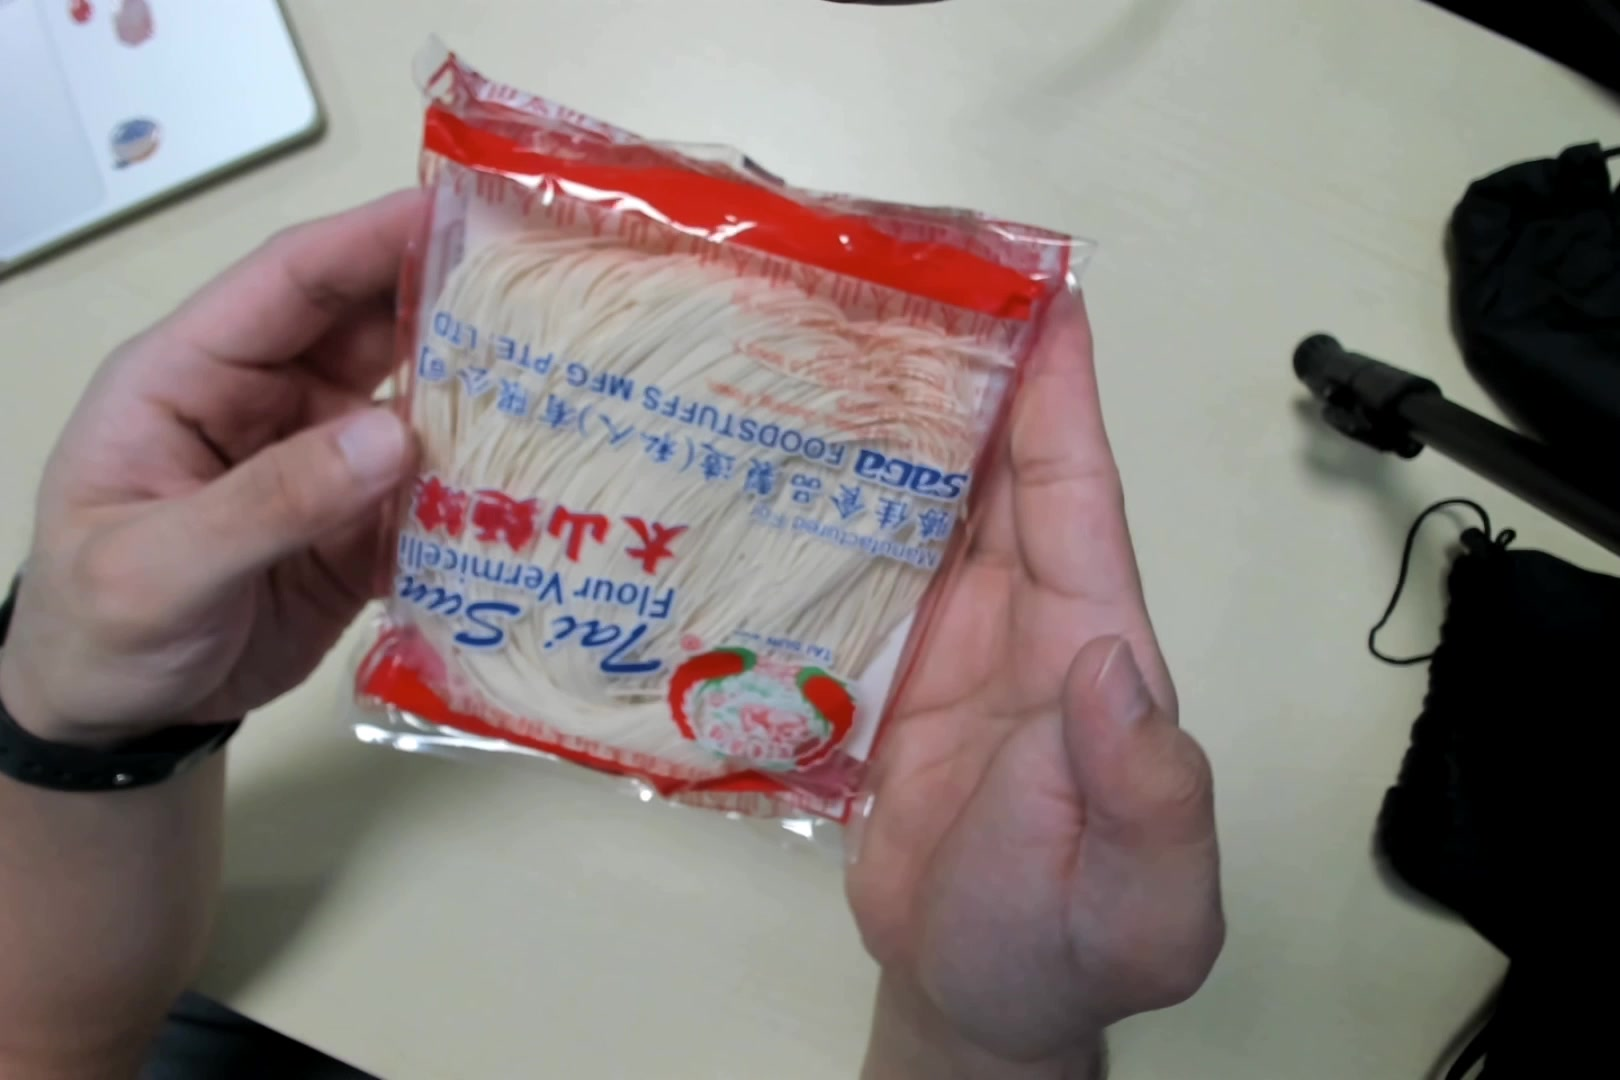BeeHoonVermicelli_100-199g_Halal_NonHealthy: (363, 80, 1031, 845)
